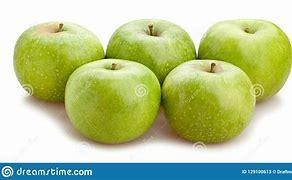apple: (62, 59, 162, 147), (16, 18, 109, 103), (162, 59, 256, 140), (201, 22, 289, 94), (109, 17, 191, 73)
